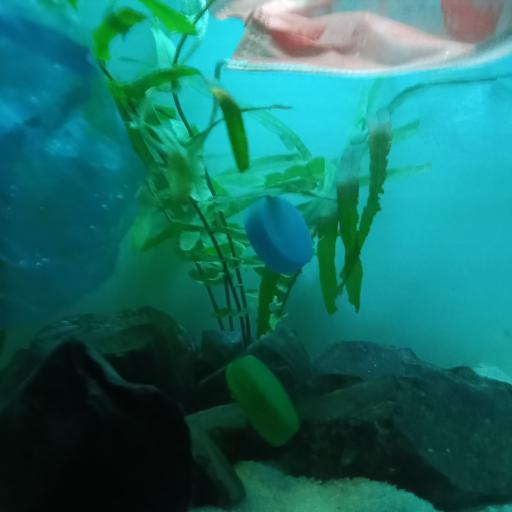bottle_cap: (225, 352, 300, 447), (245, 193, 313, 274)
mask: (204, 0, 512, 76)
plastic_bag: (2, 0, 149, 391)
